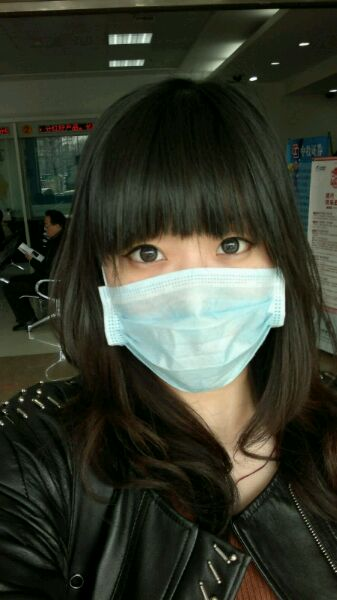face_mask: (106, 144, 266, 389)
